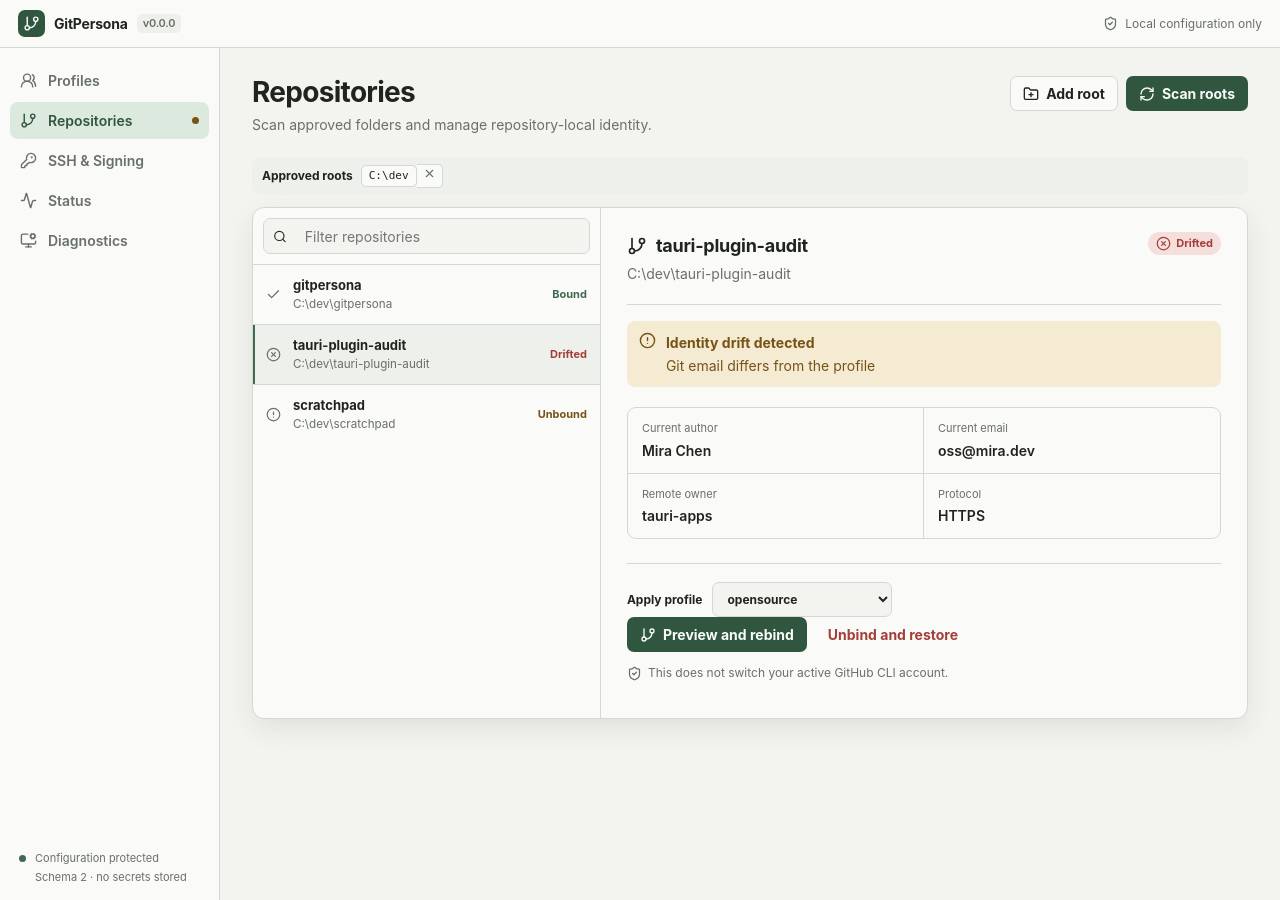
it: GitPersona app shell › renders repository status checks without crashing
The width and height of the screenshot is (1280, 900).
Click the button "Status".
click(110, 200)  # box [10,182,209,219]
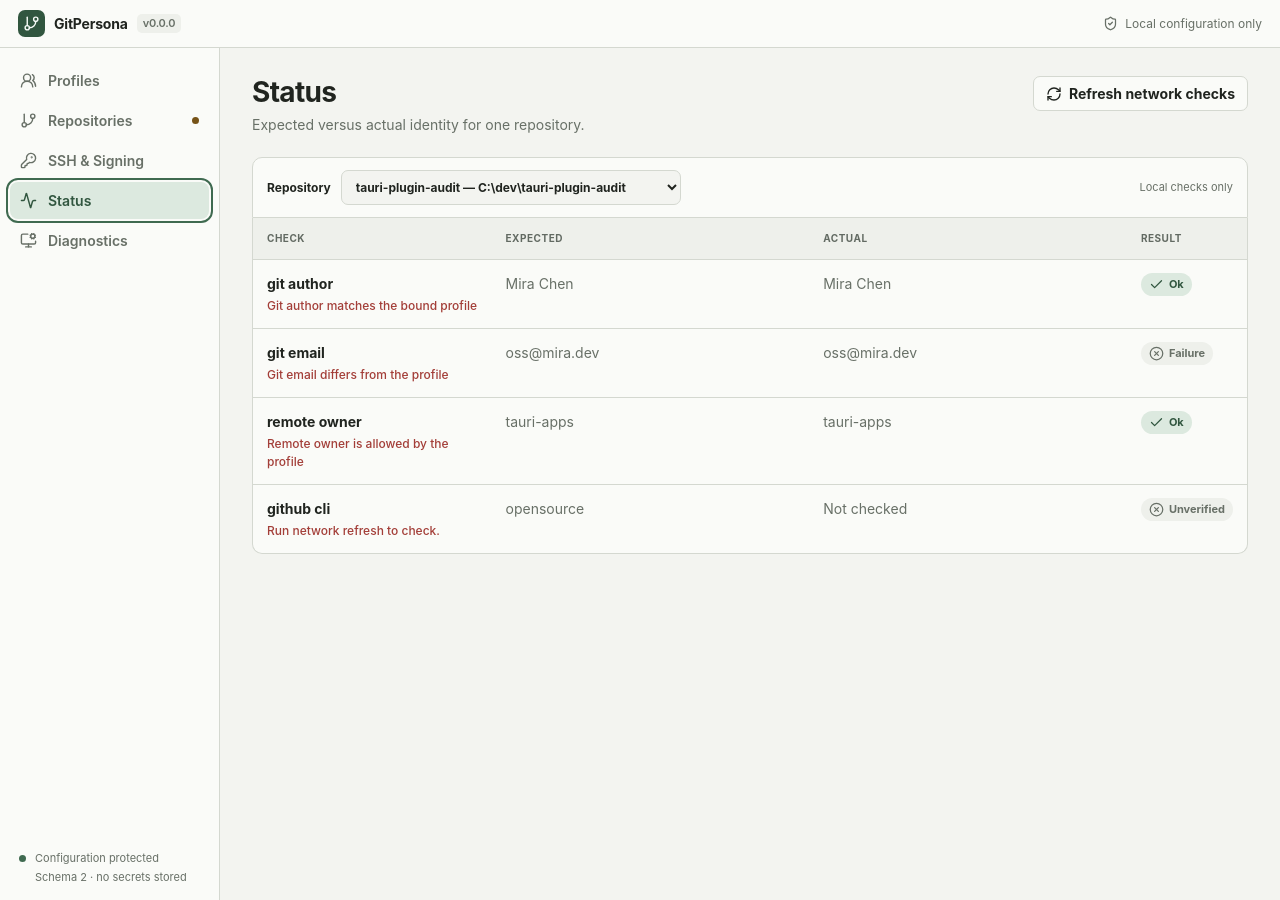
Check: the column heading "git author" is shown, box [267,275,333,292]
Check: the text "Git author matches the bound profile" is shown, box [267,297,478,315]
